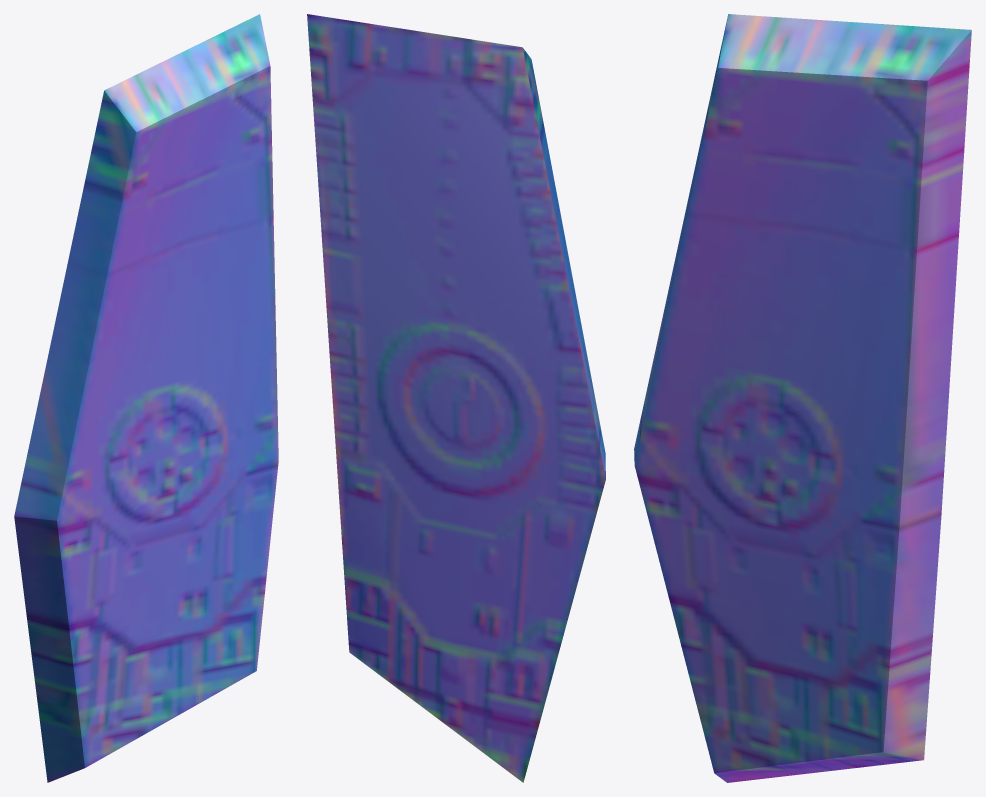
Rendered from ship_debris_05_part_07.glb.
3 renders of one model, left to right at view 1: azimuth 30°, elevation 25°; view 2: azimuth 150°, elevation 25°; view 3: azimuth 330°, elevation 25°, orthographic. The views are drawn at different scales.
Parts seen in each view (by area): view 1: ship_debris_05_part_07; view 2: ship_debris_05_part_07; view 3: ship_debris_05_part_07.
Part boxes in pixels (x1=…): ship_debris_05_part_07: x1=14, y1=14, x2=278, y2=782; ship_debris_05_part_07: x1=307, y1=14, x2=605, y2=782; ship_debris_05_part_07: x1=634, y1=14, x2=971, y2=782.
Size of the model in its own units: 1.11 by 2.78 by 0.3532.
Materials: 1 (1 with a texture image).
